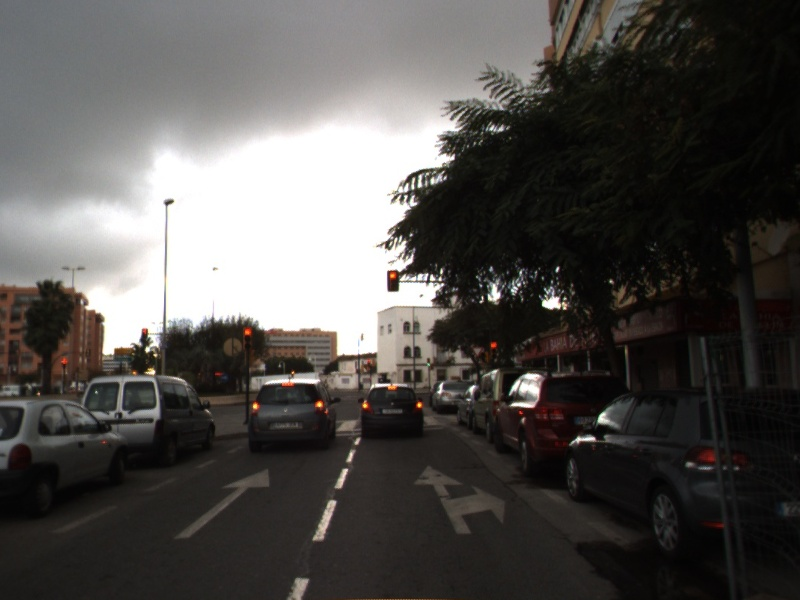STRAIGHT: (173, 467, 271, 540)
STRAIGHT_RIGHT: (412, 464, 506, 535)
